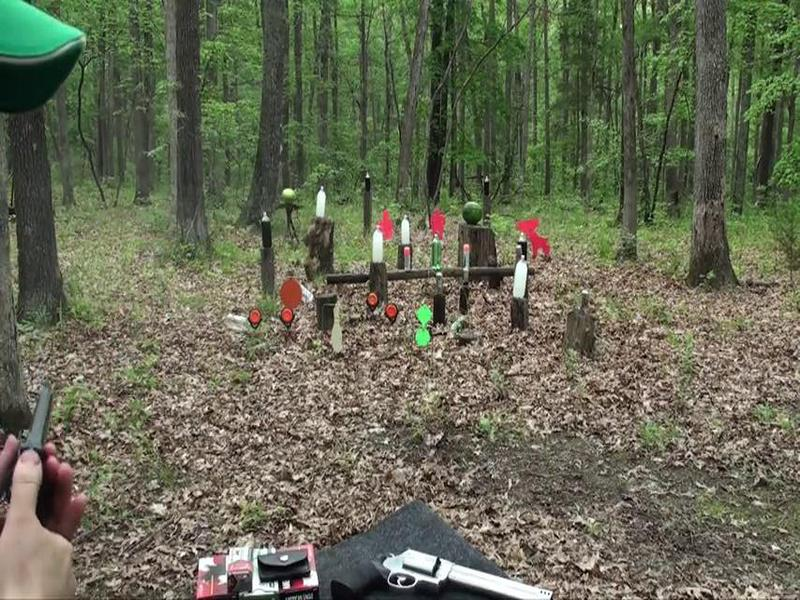Revolver: (1, 370, 81, 558)
